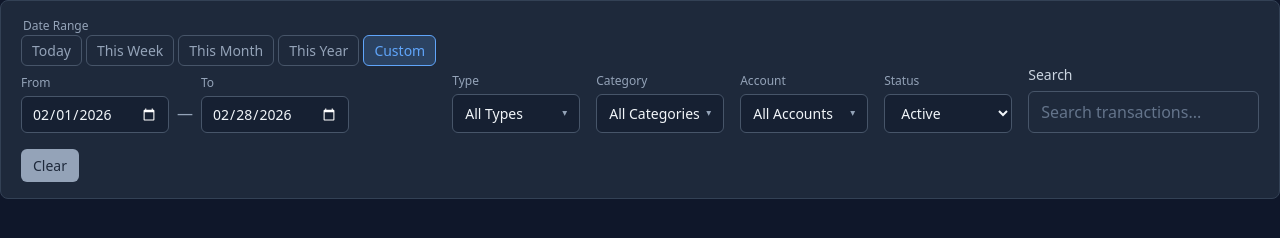
TransactionFilters › excludes inactive categories from the category dropdown
Click the button named "category" at [660, 114], box x1=596 y1=94 x2=724 y2=133
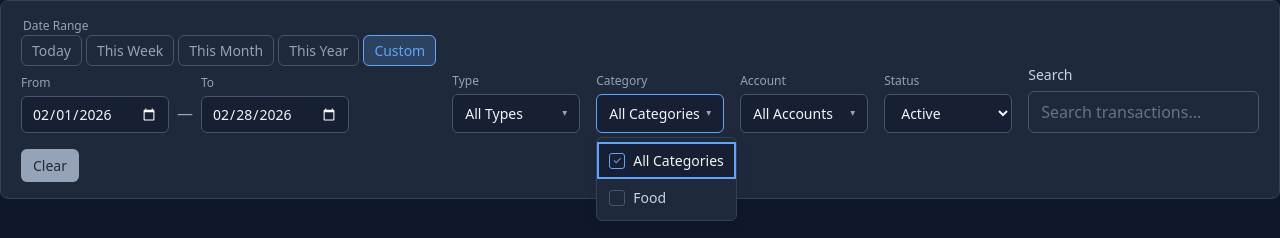
Check: the option "Food" is shown, box x1=609 y1=188 x2=666 y2=207
